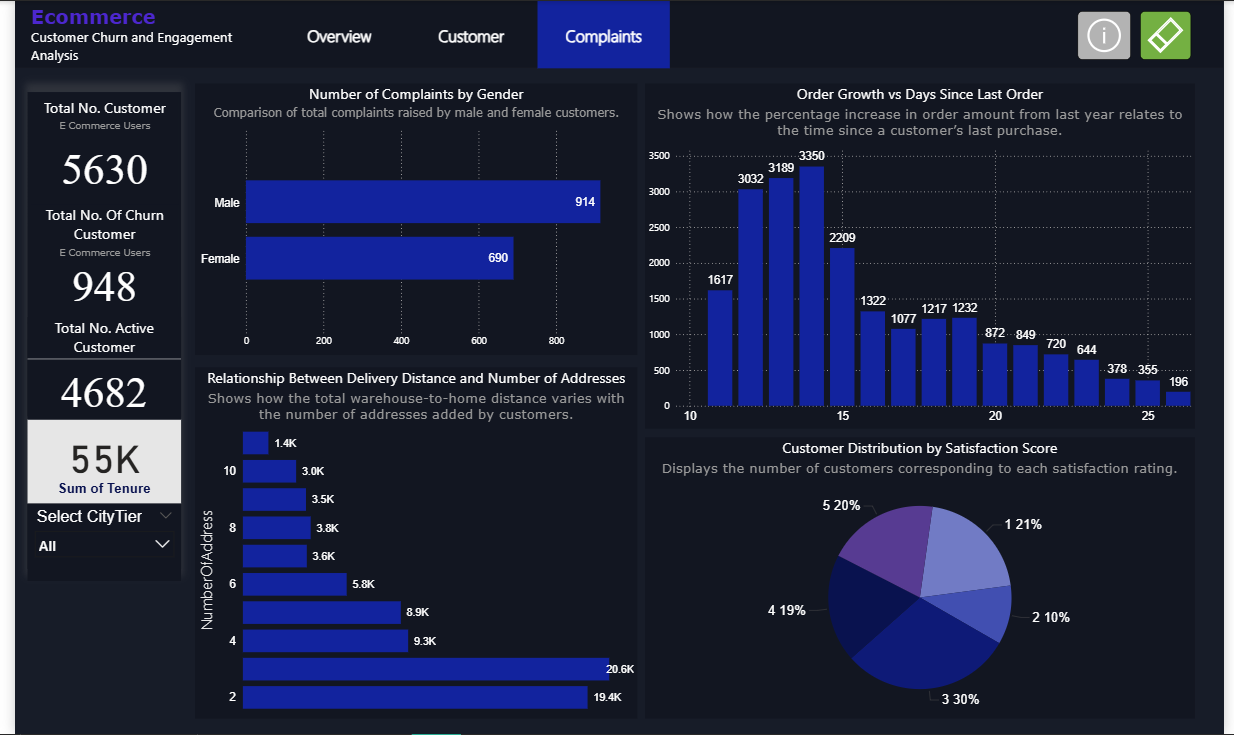

This screenshot's page, from the dashboard's own definition file:
{"tool":"powerbi","page":{"name":"Satisfaction, Complaints","canvas":[1680,1020],"ordinal":2},"visuals":[{"type":"shape","box":[0,0,1680,93.1],"z":0},{"type":"barChart","title":"Number of Complaints by Gender","fields":{"Category":["E Comm.Gender"],"Y":["Sum(E Comm.Complain)"]},"box":[250.3,114.7,615.3,377.2],"z":1000},{"type":"columnChart","title":"Order Growth vs Days Since Last Order","fields":{"Category":["E Comm.OrderAmountHikeFromlastYear"],"Y":["Sum(E Comm.DaySinceLastOrder)"]},"box":[876.1,114.7,764.8,479.8],"z":2000},{"type":"barChart","title":"Relationship Between Delivery Distance and Number of Addresses","fields":{"Y":["Sum(E Comm.WarehouseToHome)"],"Category":["E Comm.NumberOfAddress"]},"box":[250.3,509.3,615.3,488.4],"z":3000},{"type":"pieChart","title":"Customer Distribution by Satisfaction Score","fields":{"Y":["CountNonNull(E Comm.CustomerID)"],"Series":["E Comm.SatisfactionScore"]},"box":[876.1,606.6,764.8,391.1],"z":4000},{"type":"actionButton","box":[359.8,0,182.5,93.9],"z":5000},{"type":"actionButton","box":[542.3,0,184.3,93.9],"z":6000},{"type":"actionButton","box":[726.6,0,184.3,93.9],"z":7000},{"type":"textbox","box":[17.4,0,359.8,93.9],"z":8000},{"type":"shape","box":[17.4,126.9,213.8,679.7],"z":9000},{"type":"card","title":"Total No. Customer","fields":{"Values":["CountNonNull(E Comm.CustomerID)"]},"box":[22.9,134.3,204.5,141.9],"z":10000},{"type":"card","title":"Total No. Of Churn Customer","fields":{"Values":["Sum(E Comm.Churn)"]},"box":[22.9,283.9,204.5,141.9],"z":11000},{"type":"card","title":"Total No. Active Customer","fields":{"Values":["E Comm.ActiveCustomer"]},"box":[17.4,439.8,213.8,137.3],"z":12000},{"type":"card","fields":{"Values":["Sum(E Comm.Tenure)"]},"box":[17.4,582.3,213.8,116.5],"z":13000},{"type":"slicer","fields":{"Values":["E Comm.CityTier"]},"box":[17.4,698.8,213.8,90.4],"z":14000},{"type":"actionButton","box":[1564.4,13.9,71.3,67.8],"z":15000},{"type":"actionButton","box":[1477.5,13.9,74.7,67.8],"z":16000}]}

Visuals, with their boxes in screenshot pixels (x1, y1, x2, y2), scaled from the page's 1680x1020 canvas onto the 1234x735 screenshot:
shape: [x1=0, y1=0, x2=1233, y2=67]
"Number of Complaints by Gender" barChart: [x1=184, y1=83, x2=636, y2=354]
"Order Growth vs Days Since Last Order" columnChart: [x1=644, y1=83, x2=1205, y2=428]
"Relationship Between Delivery Distance and Number of Addresses" barChart: [x1=184, y1=367, x2=636, y2=719]
"Customer Distribution by Satisfaction Score" pieChart: [x1=644, y1=437, x2=1205, y2=719]
actionButton: [x1=264, y1=0, x2=398, y2=68]
actionButton: [x1=398, y1=0, x2=534, y2=68]
actionButton: [x1=534, y1=0, x2=669, y2=68]
textbox: [x1=13, y1=0, x2=277, y2=68]
shape: [x1=13, y1=91, x2=170, y2=581]
"Total No. Customer" card: [x1=17, y1=97, x2=167, y2=199]
"Total No. Of Churn Customer" card: [x1=17, y1=205, x2=167, y2=307]
"Total No. Active Customer" card: [x1=13, y1=317, x2=170, y2=416]
card - Sum(E Comm.Tenure): [x1=13, y1=420, x2=170, y2=504]
slicer - E Comm.CityTier: [x1=13, y1=504, x2=170, y2=569]
actionButton: [x1=1149, y1=10, x2=1201, y2=59]
actionButton: [x1=1085, y1=10, x2=1140, y2=59]
